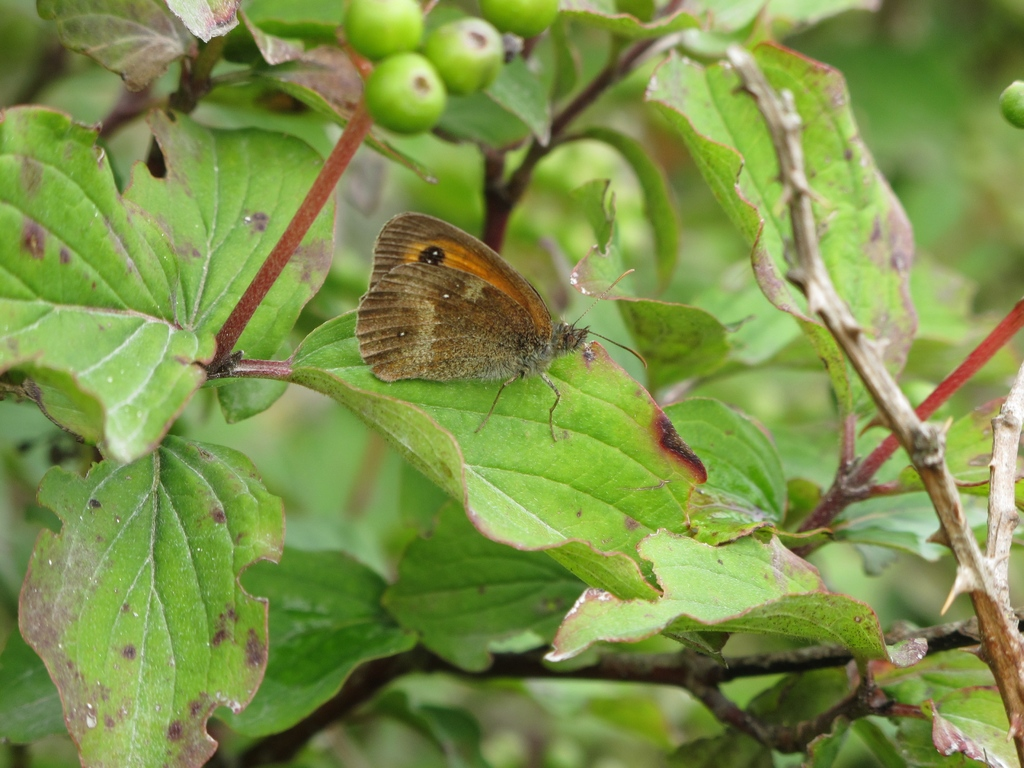Butterfly: (332, 190, 602, 438)
